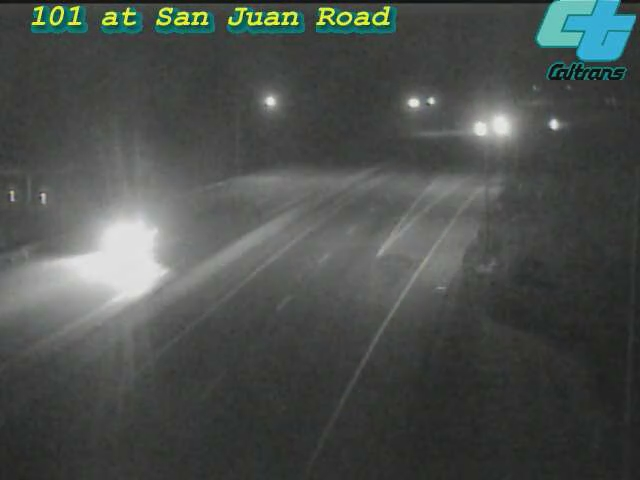vehicle: (80, 199, 160, 279), (528, 101, 578, 151), (454, 104, 504, 154), (475, 100, 525, 150)
